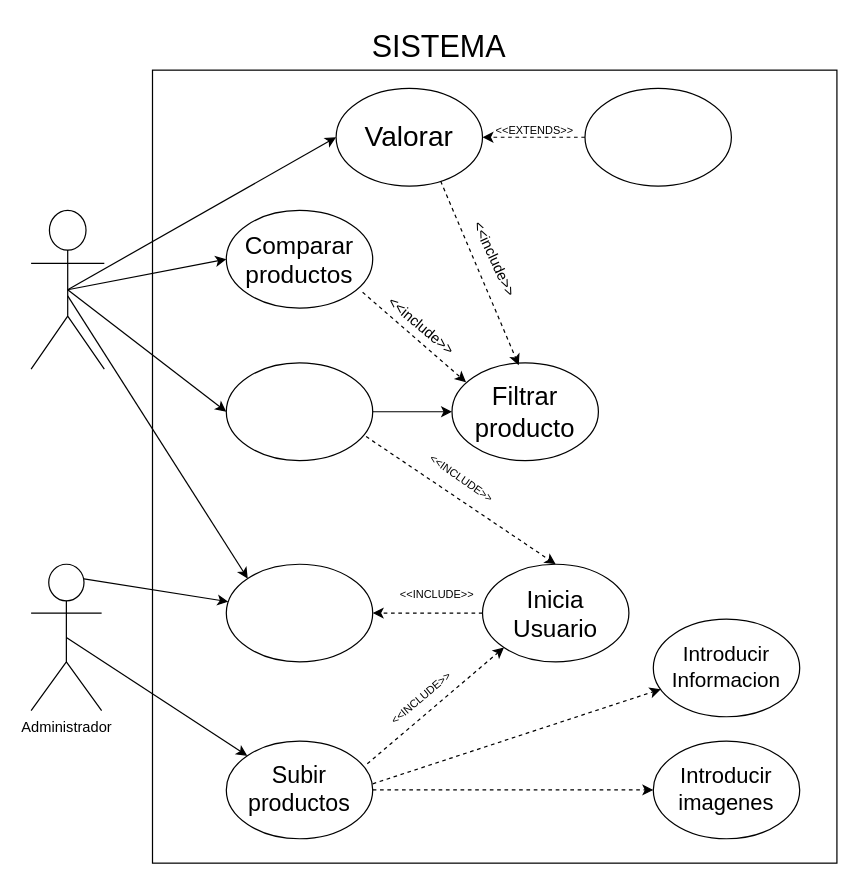
The diagram is 859 pixels wide and 885 high, and some of its shapes have lost their labels. The shapes that lost their labels are listed below. From the top down, each one's box as (x1, y1, x2, y2) in pixels, then its label:
(584, 87, 731, 186): Comentar
(30, 209, 104, 369): Usuario
(225, 362, 373, 461): Buscar avanzado
(225, 563, 373, 662): Registrarse
